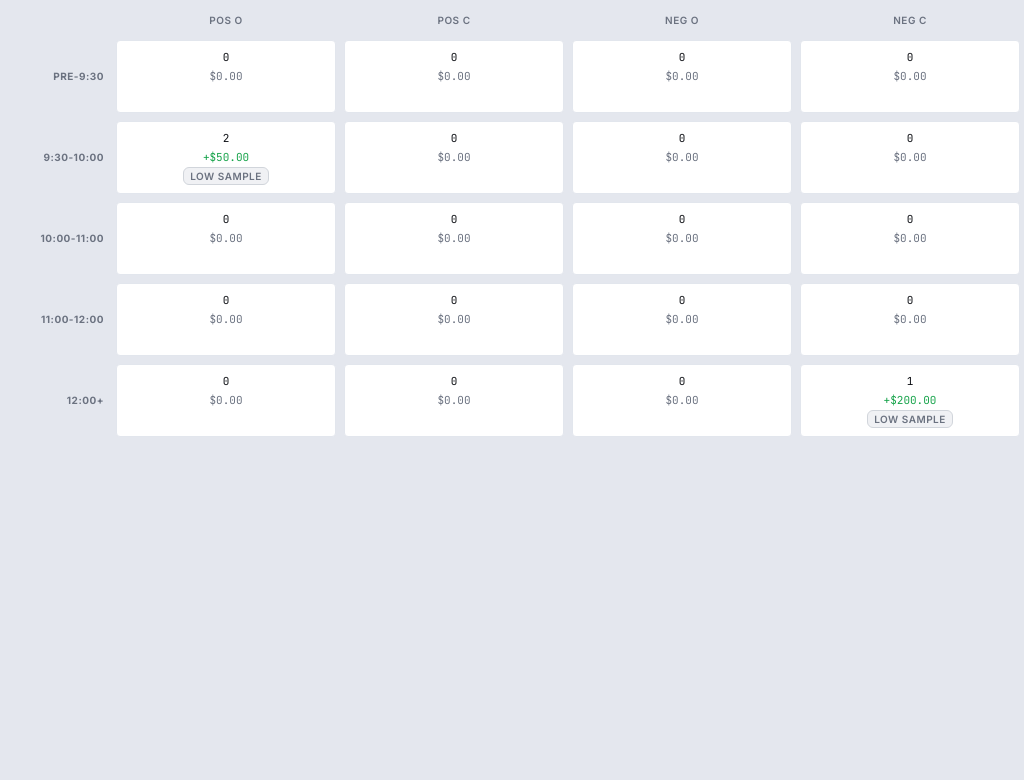
TimeOfDayMatrix — Section 6 cross-tab (integration) › clicking a cell opens its accordion and mounts the trade table
Expected: the text "MACD line" is not shown
What coordinates should you click on to do the following:
click the button with aria-label "9:30-10:00 Positive + Open"
I would click on:
 (226, 158)
Its box is [116,121,336,194].
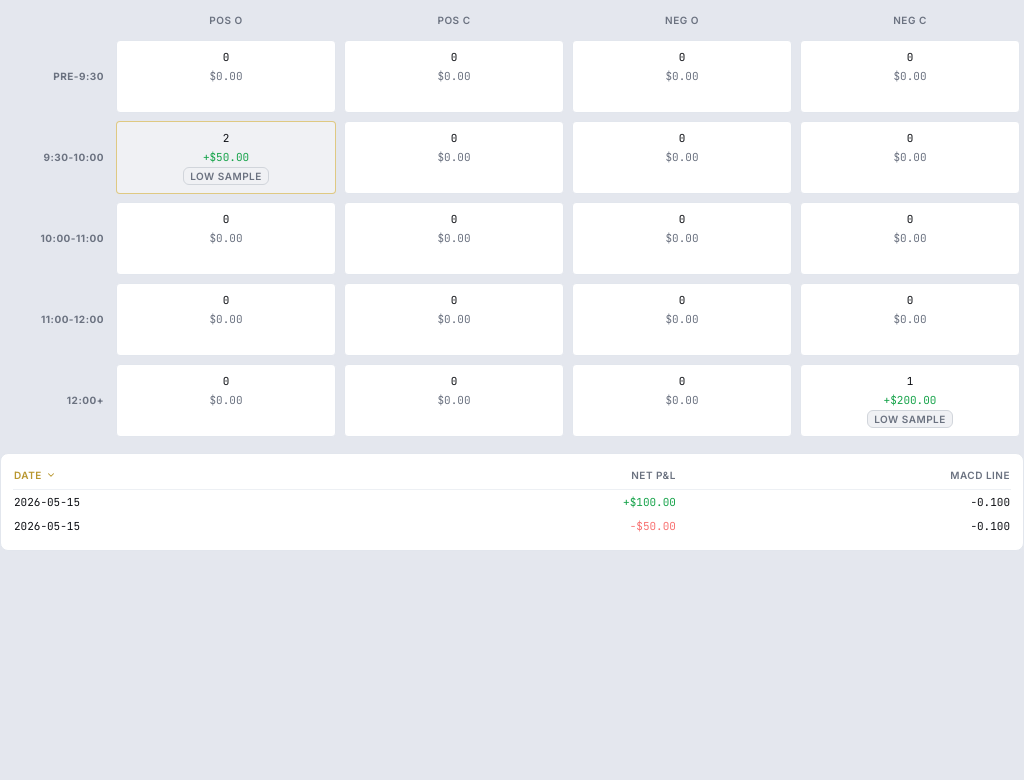
Expected: the text "MACD line" is shown, [950,467,1010,483]
